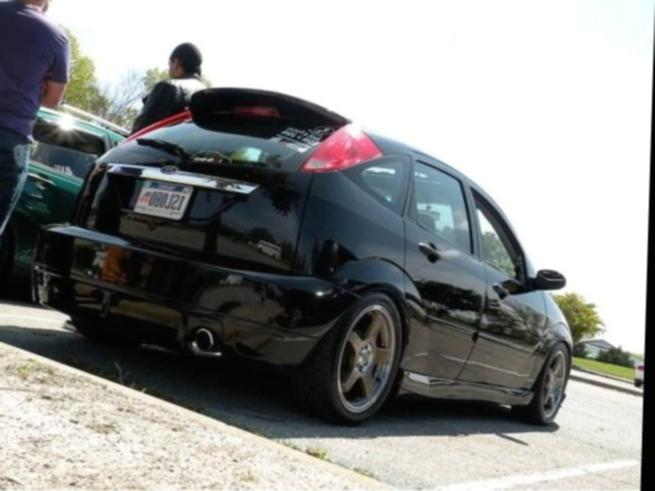License_Plate: (119, 175, 200, 225)
